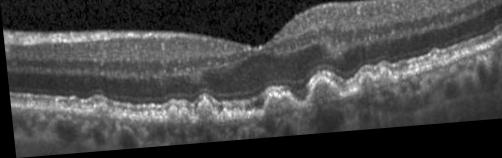retinal_drusen: (307, 84, 337, 110), (261, 100, 296, 122), (194, 105, 212, 126), (359, 79, 374, 95), (376, 76, 391, 90), (92, 105, 106, 118), (165, 110, 176, 124), (177, 111, 186, 125), (430, 61, 439, 73)
